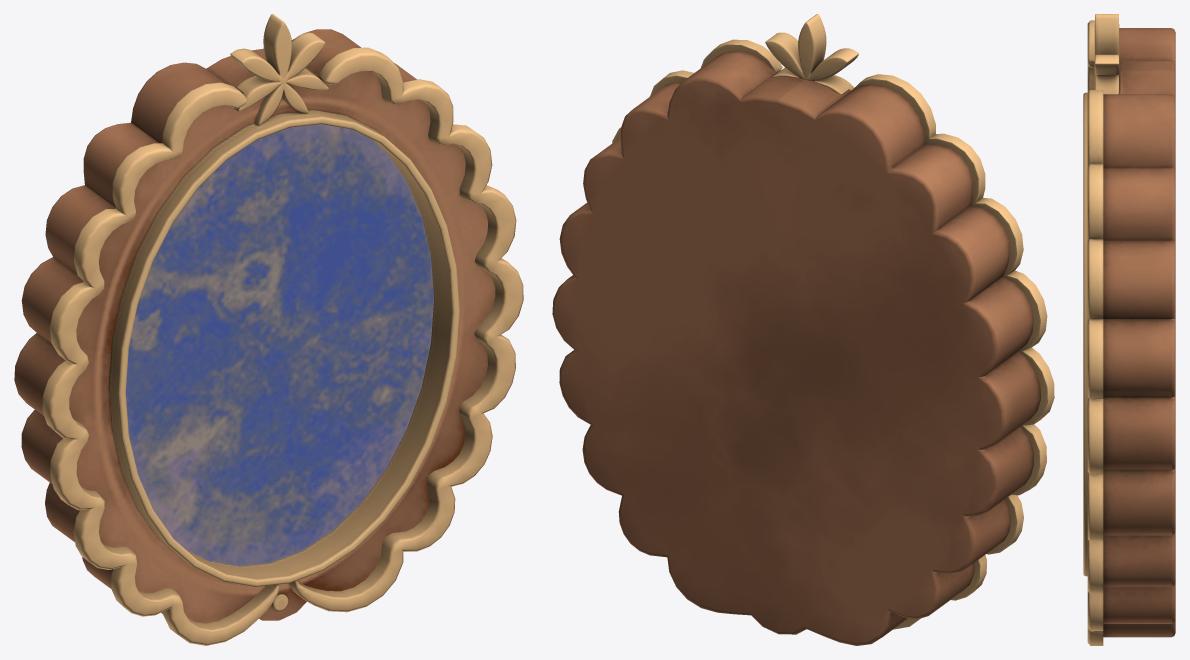
The model's file is JingZi.fbx.
The picture shows the model from 3 angles, left to right: view 1: azimuth 30°, elevation 25°; view 2: azimuth 150°, elevation 25°; view 3: azimuth 270°, elevation 25°; orthographic projection.
Parts seen in each view (by area): view 1: JingZi; view 2: JingZi; view 3: JingZi.
Boxes of the visible parts, x1,y1,x2,y2 form: JingZi: (14,14,523,645); JingZi: (552,14,1054,645); JingZi: (1083,14,1175,645).
Bounding box in the file's own units: 96.94 × 118 × 16.64.
